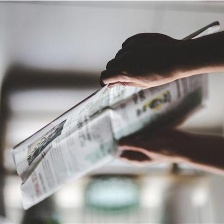news_paper: (8, 18, 224, 212)
